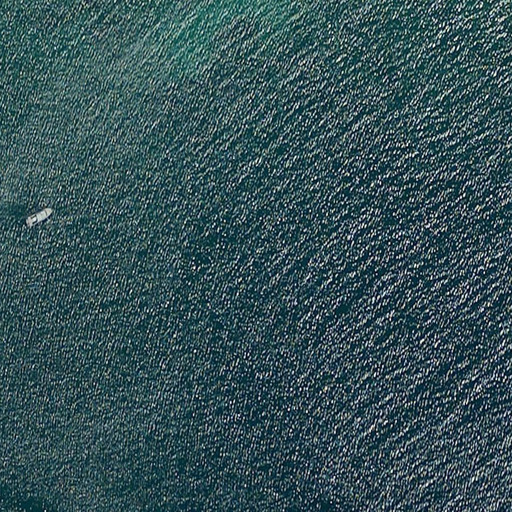ship: (24, 206, 53, 229)
